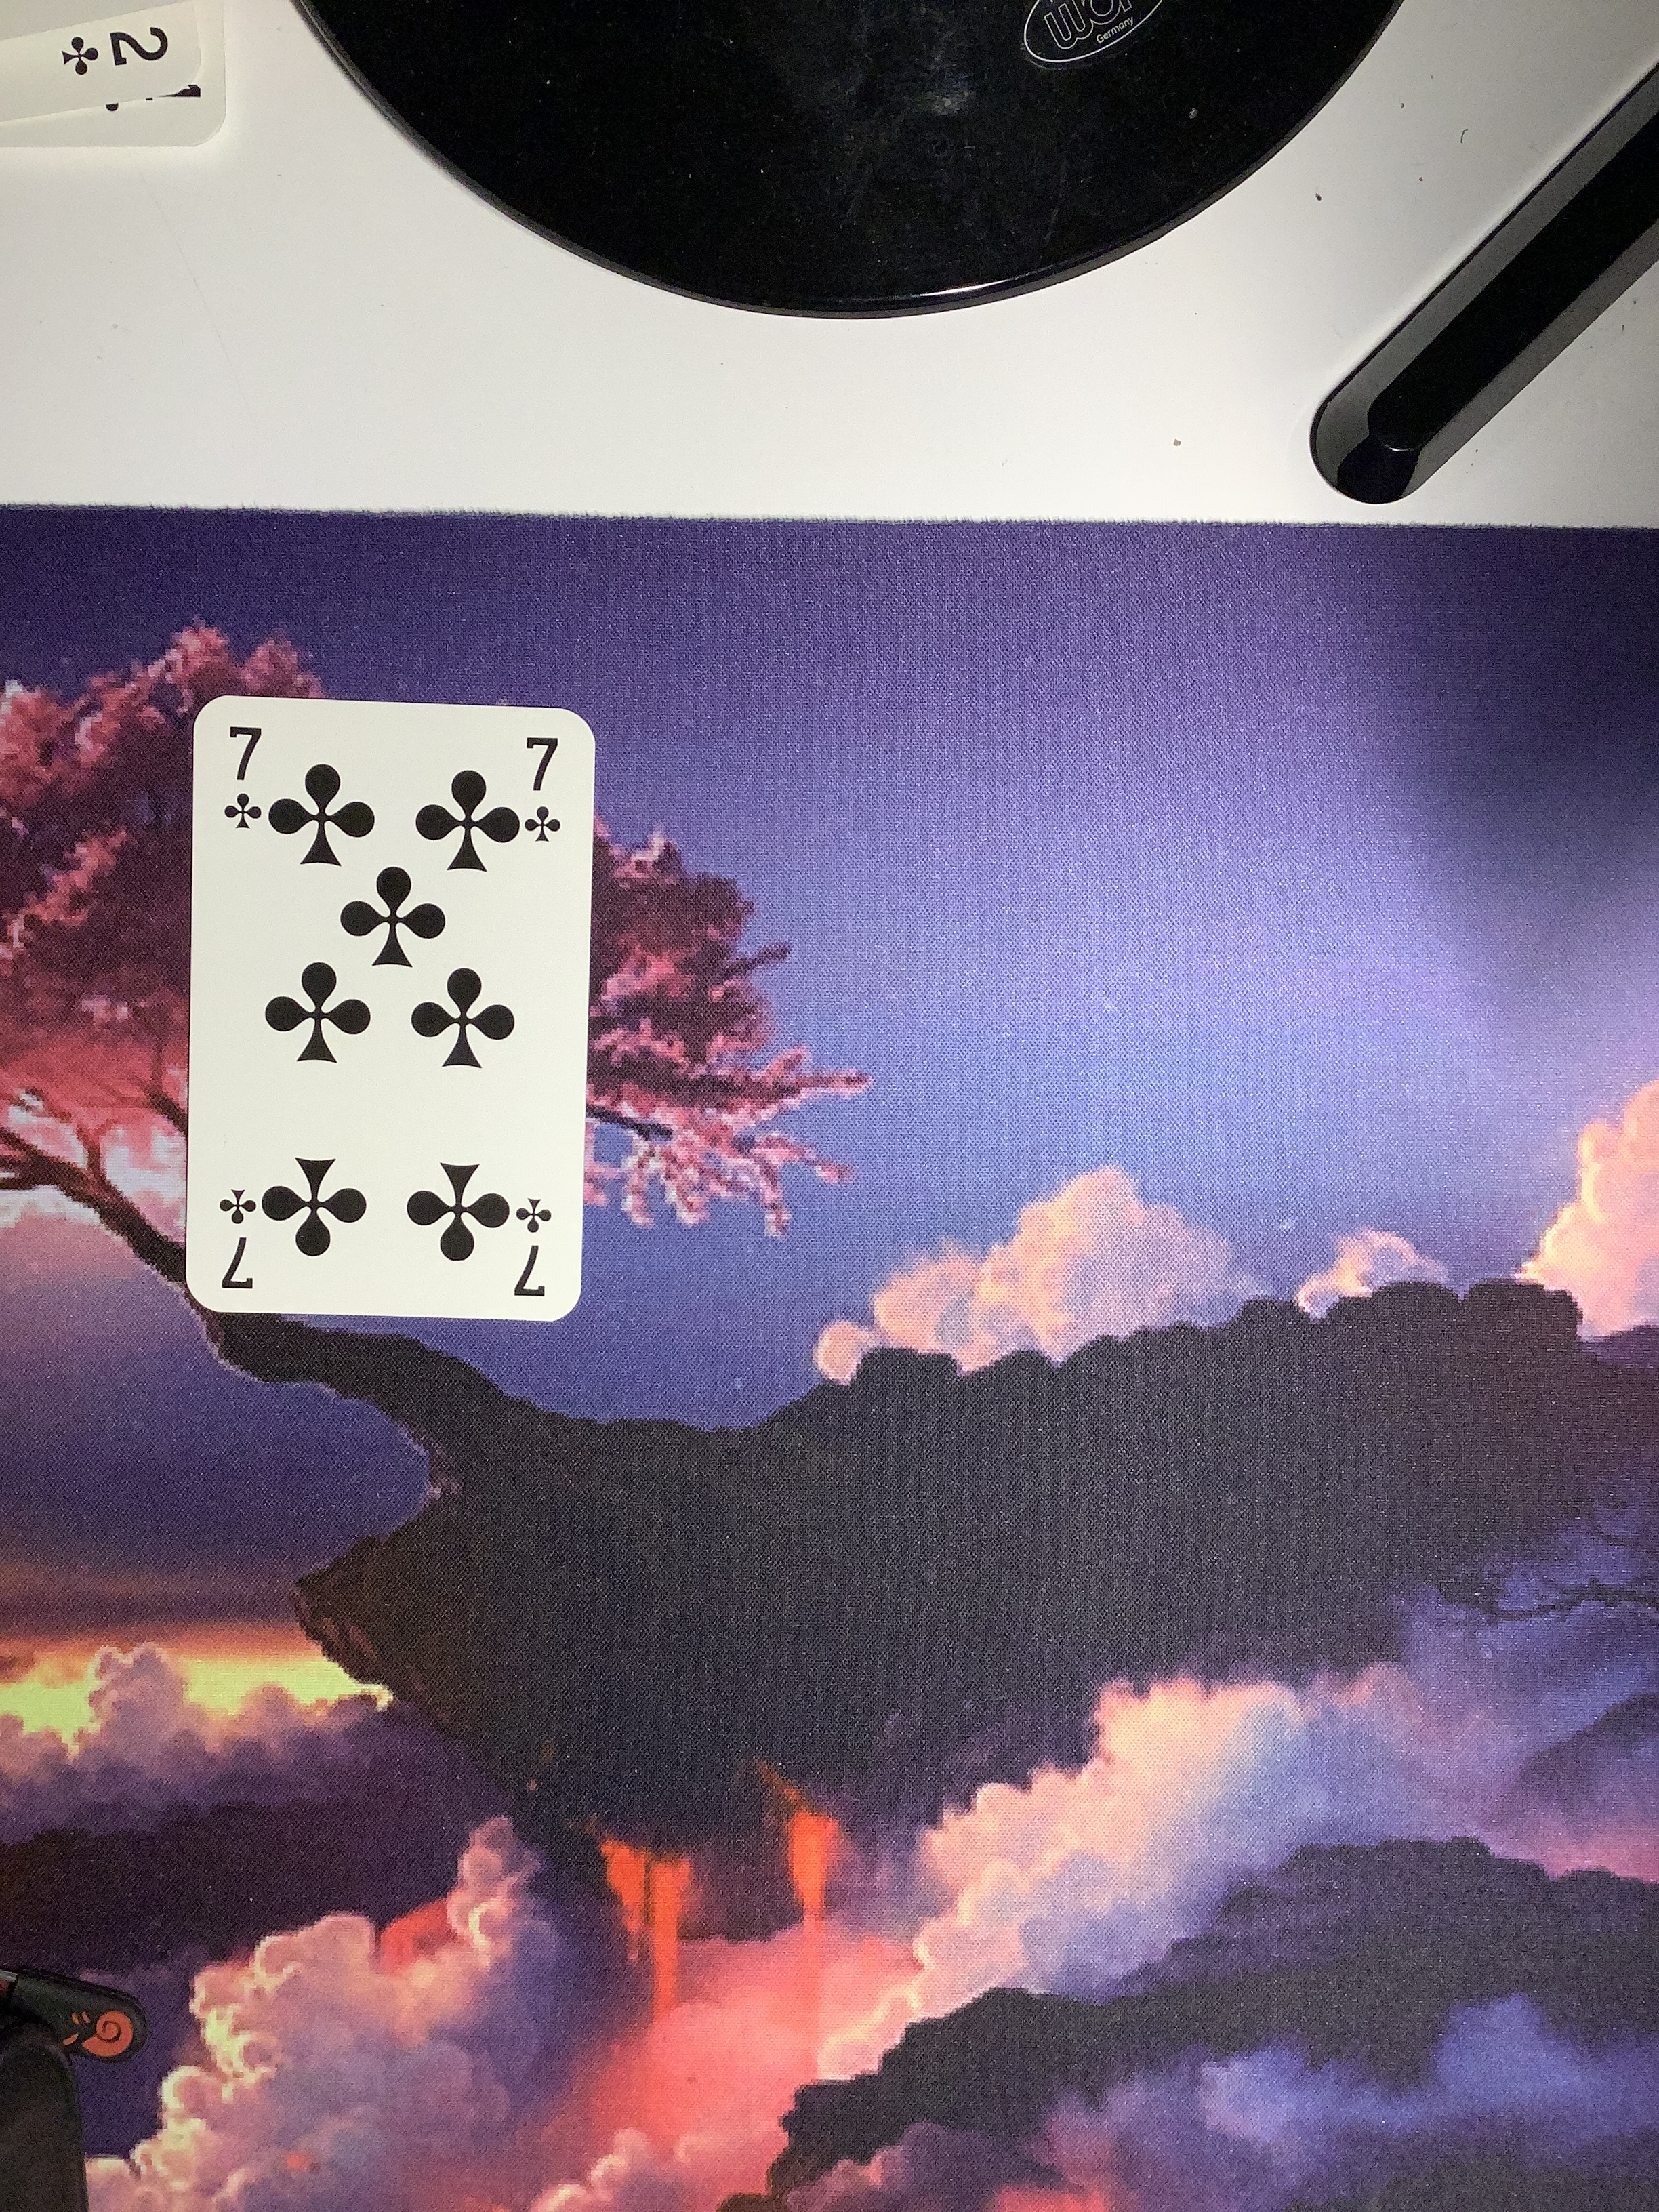♣ 7: (176, 676, 631, 1339)
